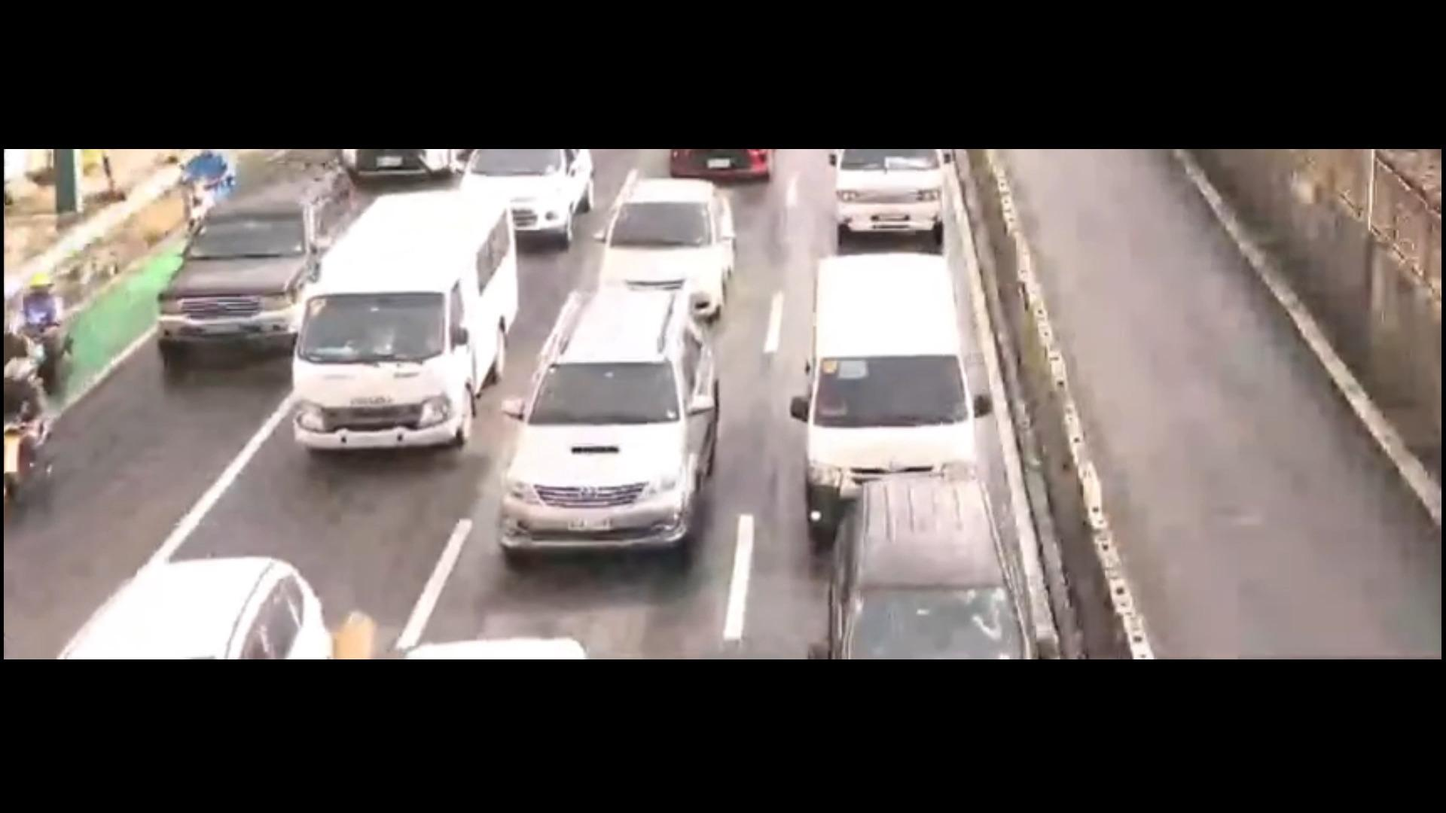Motorcycle: (0, 318, 58, 491), (24, 263, 92, 406), (175, 152, 218, 252)
Multicab: (290, 190, 516, 457)
SUV: (497, 295, 717, 551), (158, 177, 343, 371)
Sedan: (591, 171, 738, 314)
Van: (781, 243, 979, 536)
